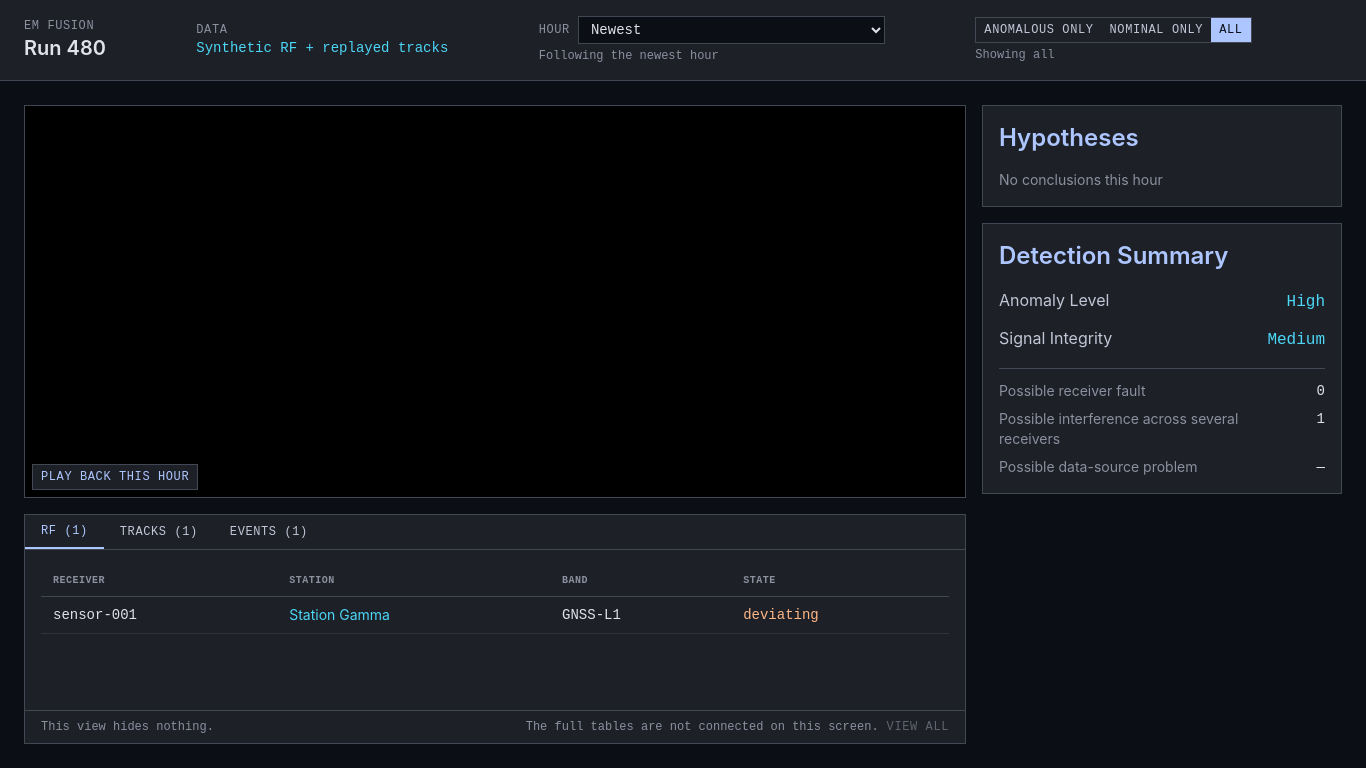
playing › never shows or uses today's time
The image size is (1366, 768).
What coordinates should you click on to do the following:
click the button "Play back this hour"
I would click on:
 (115, 477)
Its box is [32,464,198,490].
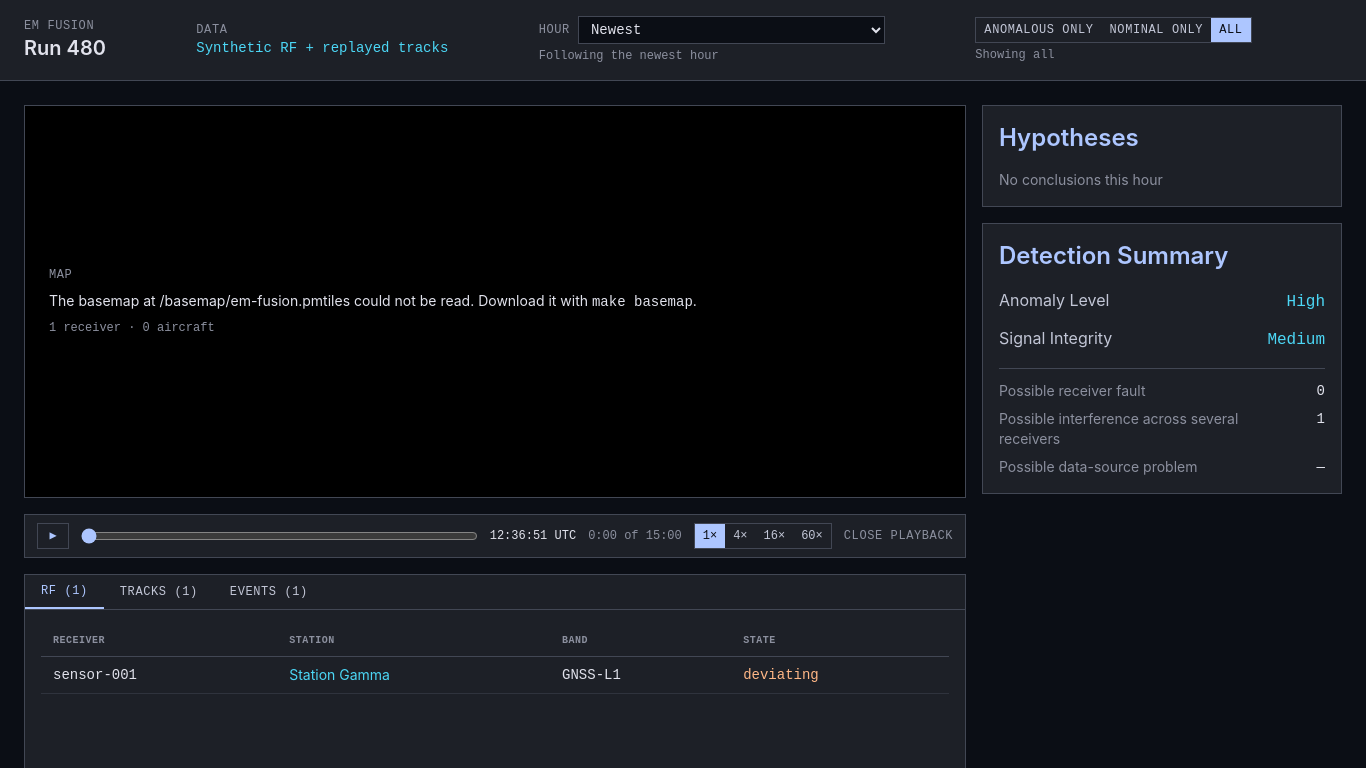
Now the text "12:36:51 UTC" is shown, box [490,528,576,544]
